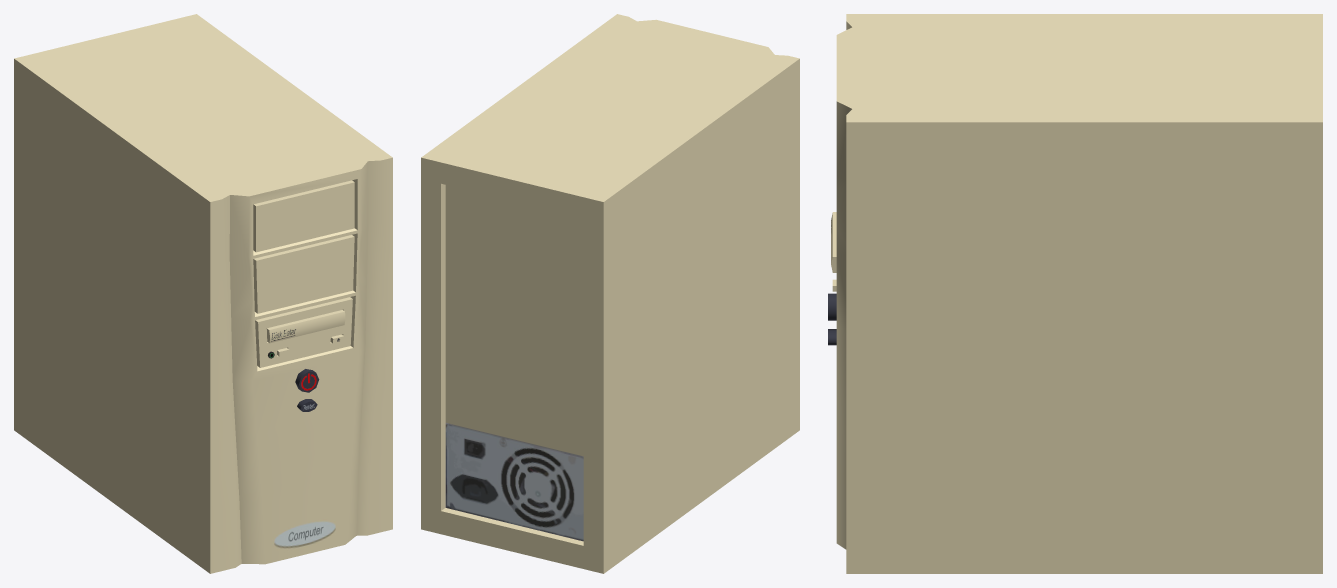
Rendered from CPUTower.fbx.
3 views of the same model, side by side, from view 1: azimuth 30°, elevation 25°; view 2: azimuth 150°, elevation 25°; view 3: azimuth 270°, elevation 25° (orthographic). The views are drawn at different scales.
Parts seen in each view (by area): view 1: polySurface22; view 2: polySurface22; view 3: polySurface22.
Part boxes in pixels (x1=…): polySurface22: x1=14, y1=14, x2=392, y2=573; polySurface22: x1=421, y1=14, x2=799, y2=573; polySurface22: x1=828, y1=14, x2=1322, y2=573.
Size of the model in its own units: 25.85 by 50.3 by 49.94.
1 material, 1 textured.
